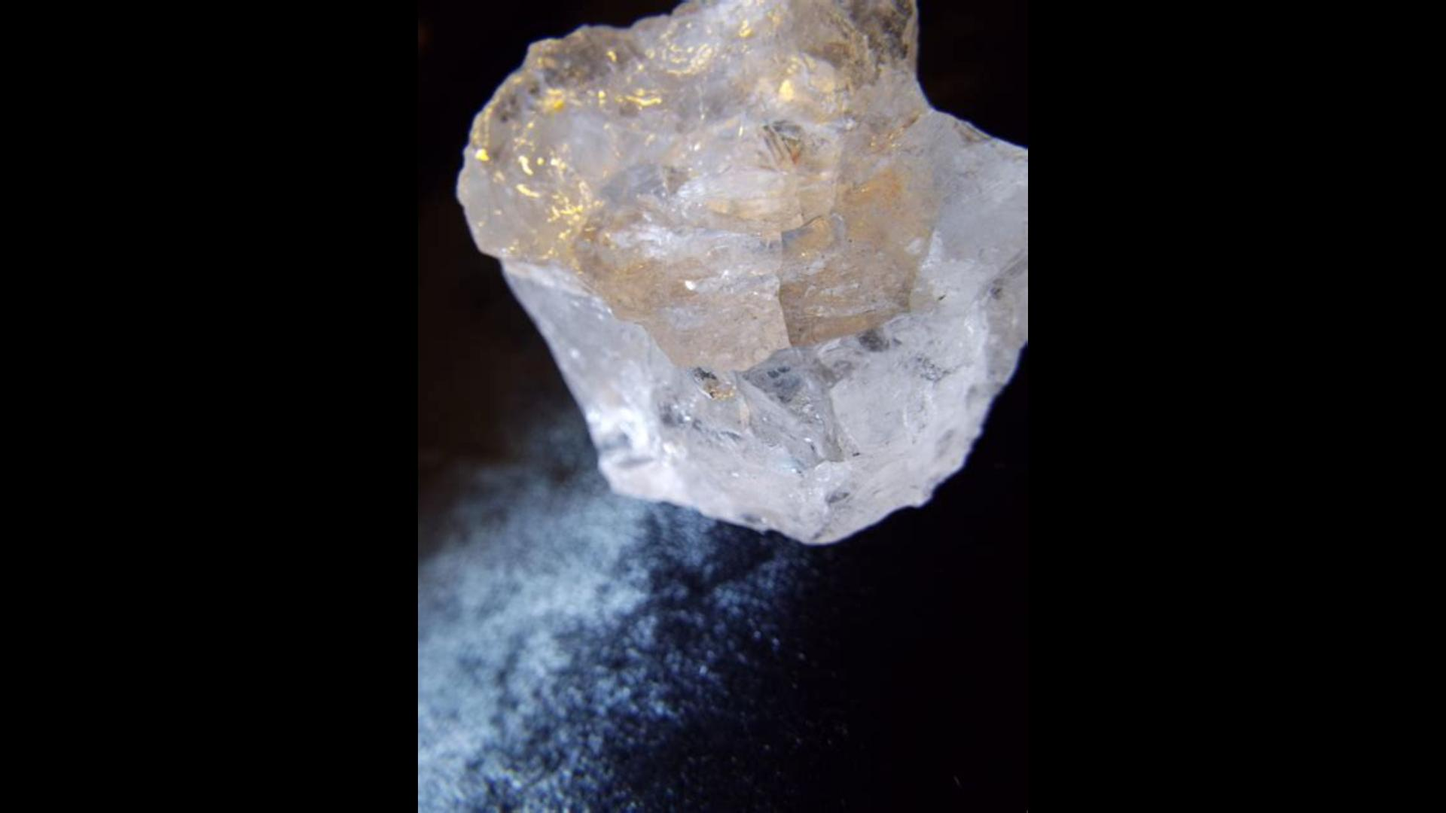rock: (459, 0, 1027, 543)
